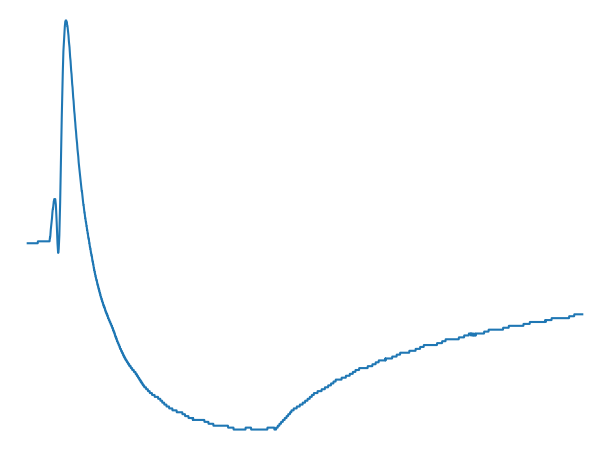increase: (44, 188, 70, 258), (262, 407, 292, 435)
